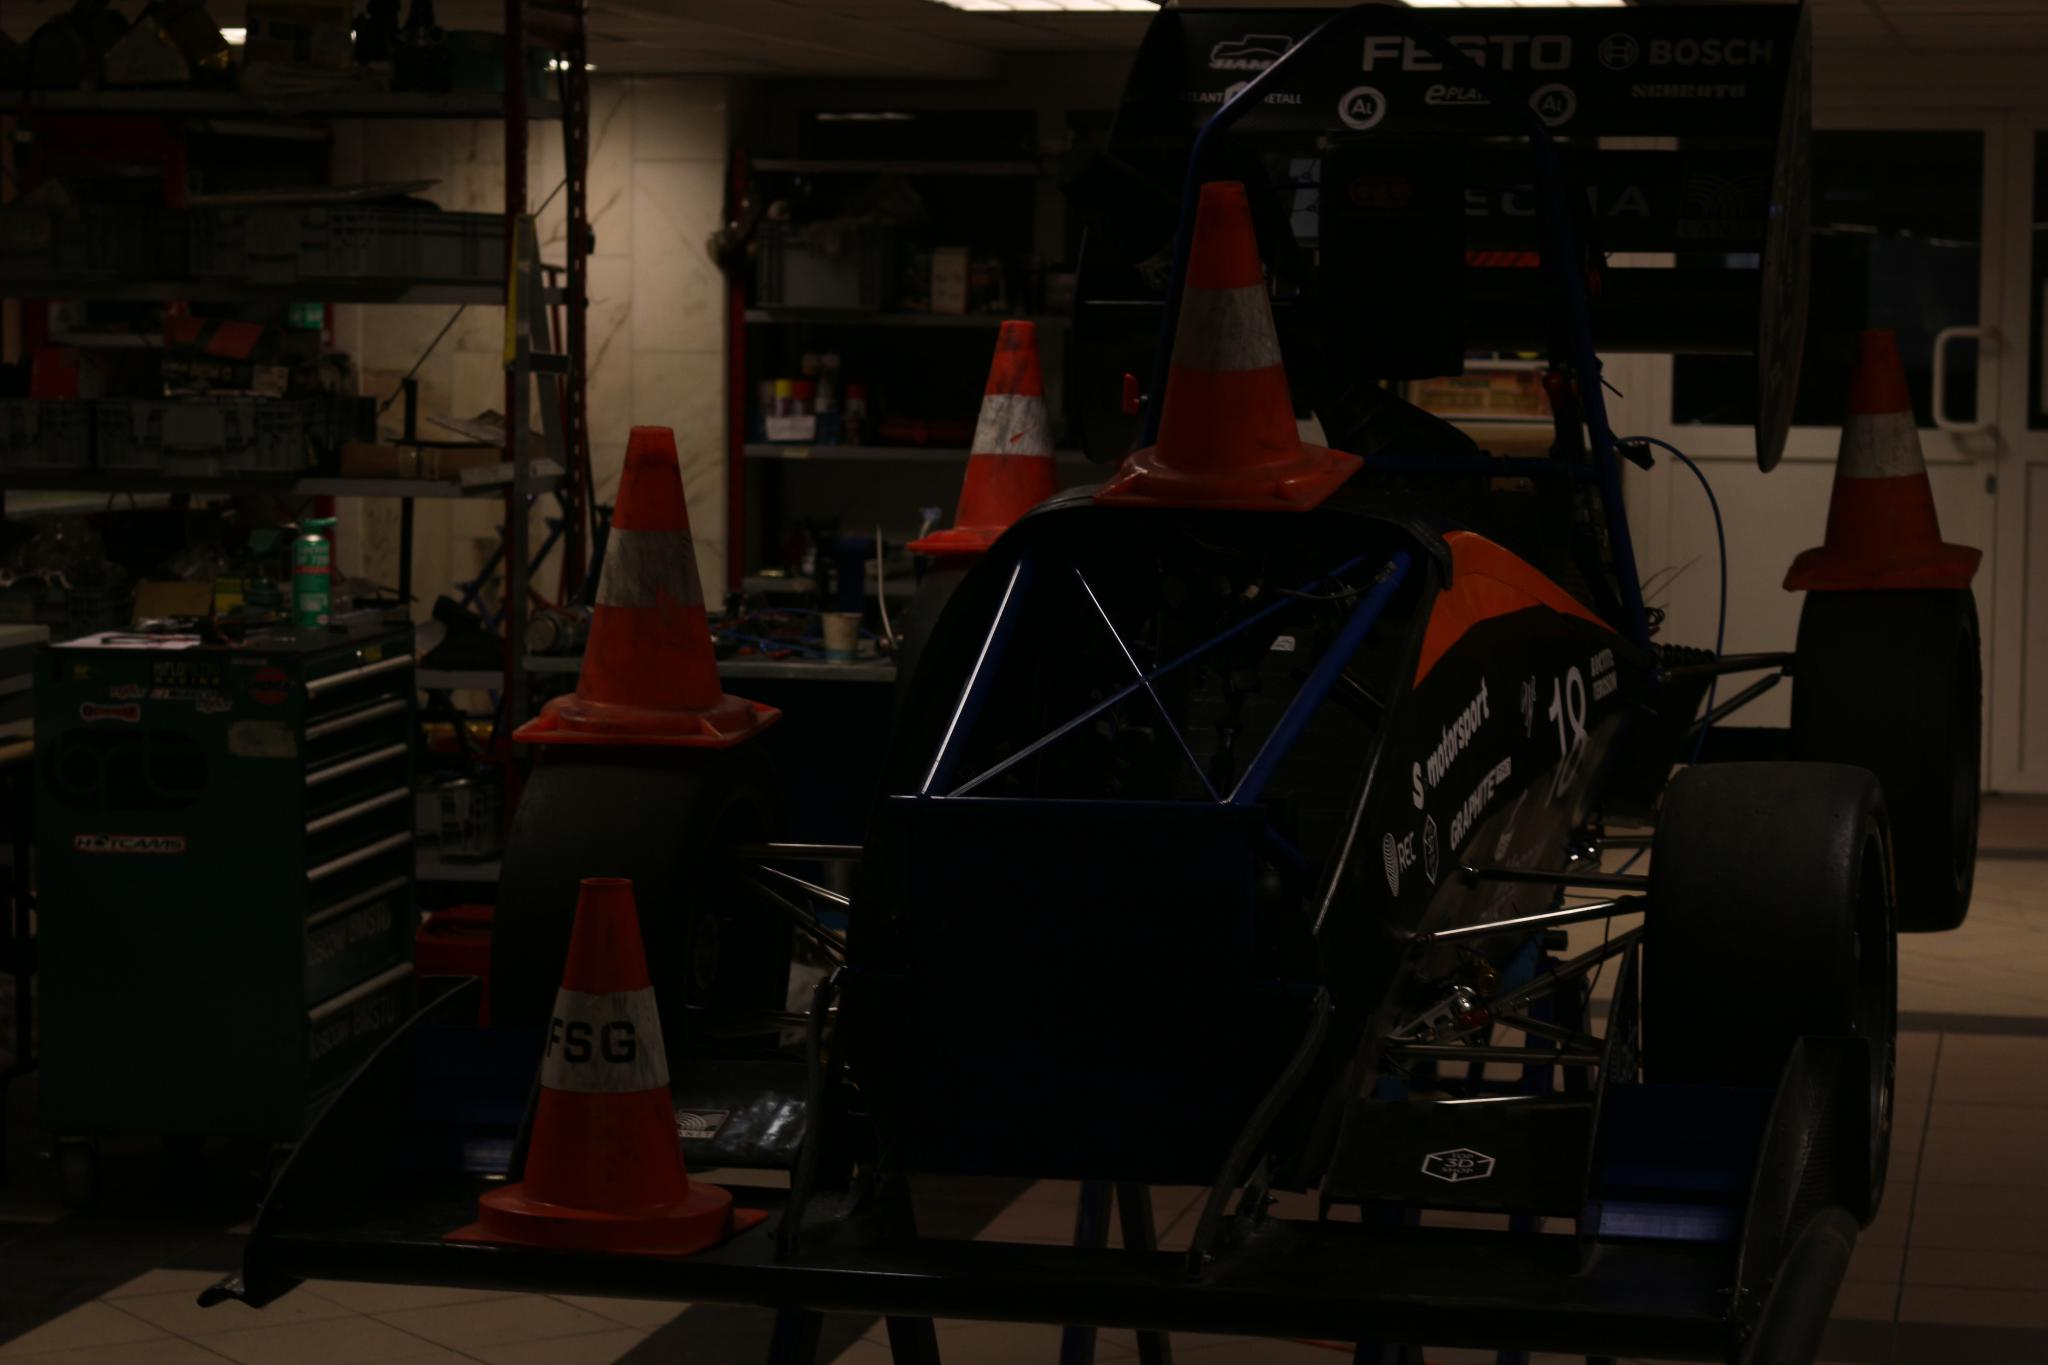Orange_Cone: (463, 864, 738, 1257), (521, 414, 764, 754), (1112, 171, 1345, 521), (1792, 305, 1978, 580), (909, 305, 1075, 561)
